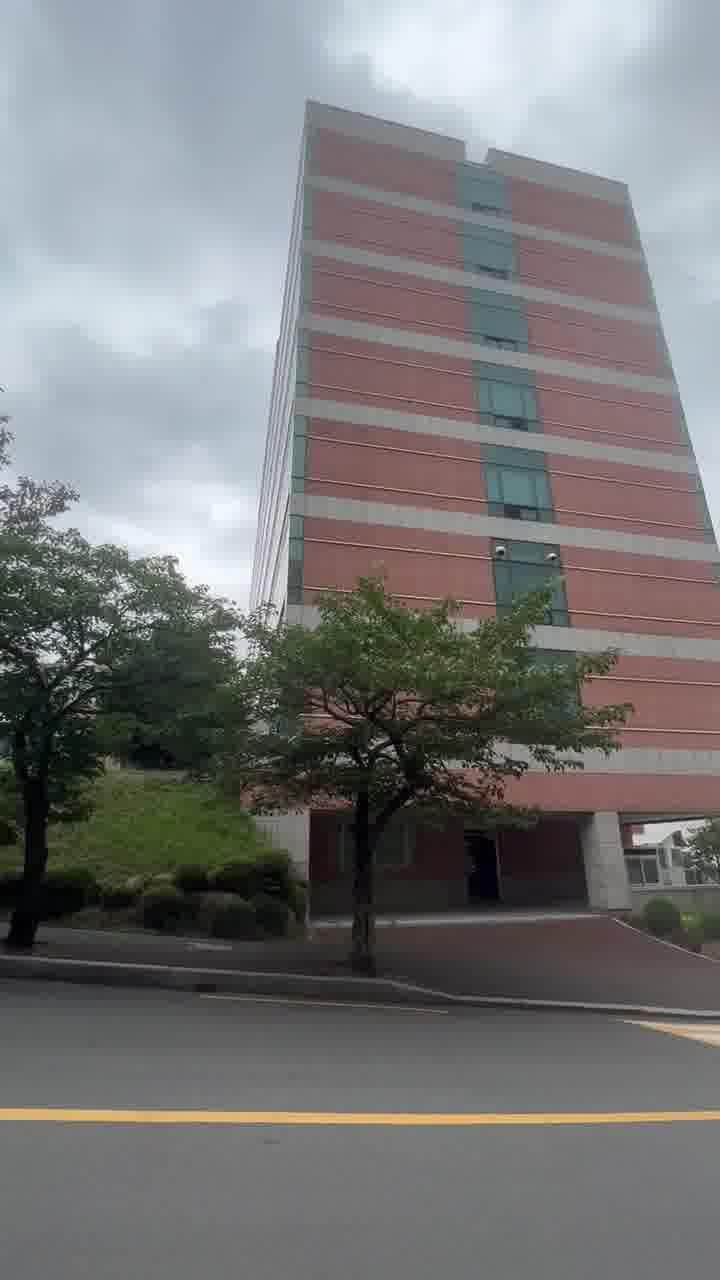building: (242, 102, 700, 614)
